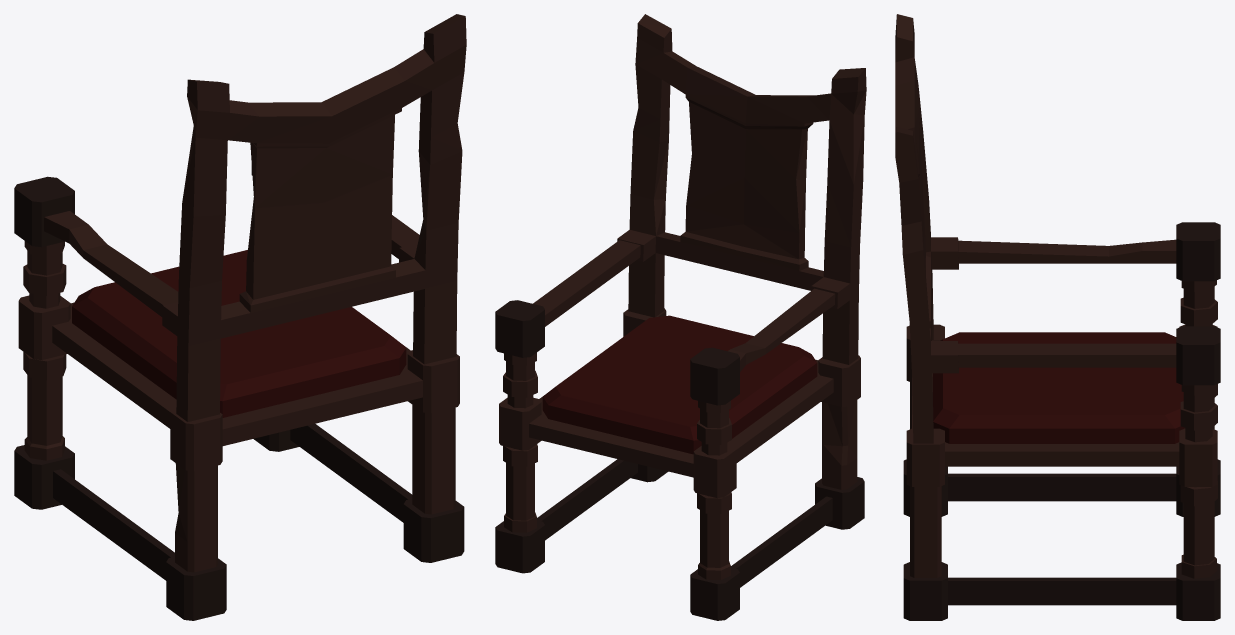
File: Chair.obj
3 views of the same model, side by side, from view 1: azimuth 30°, elevation 25°; view 2: azimuth 150°, elevation 25°; view 3: azimuth 270°, elevation 25° (orthographic). The views are drawn at different scales.
Visible parts, largest first — view 1: Chair; view 2: Chair; view 3: Chair.
Part boxes in pixels (x1,y1,x2,y2): Chair: [14, 14, 466, 620]; Chair: [495, 14, 866, 620]; Chair: [895, 14, 1220, 620].
Bounding box in the file's own units: 0.627 × 1.16 × 0.7024.
